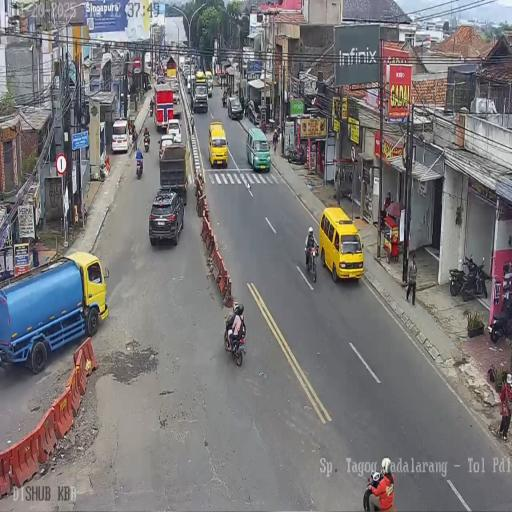car: (322, 206, 366, 282), (149, 189, 185, 246), (246, 125, 270, 172), (208, 120, 228, 168), (111, 119, 129, 153), (165, 118, 182, 144), (228, 94, 242, 120), (157, 74, 165, 84)
motorcycle: (461, 254, 487, 301), (489, 292, 512, 342), (224, 314, 245, 365), (305, 242, 318, 282), (285, 143, 306, 165), (449, 268, 465, 296), (136, 156, 143, 178), (260, 119, 268, 135), (144, 133, 150, 152), (244, 98, 250, 116), (222, 92, 228, 108), (149, 99, 154, 116)
truck: (0, 253, 108, 374), (153, 82, 174, 132), (192, 75, 209, 113), (172, 84, 180, 108), (187, 72, 194, 94)
